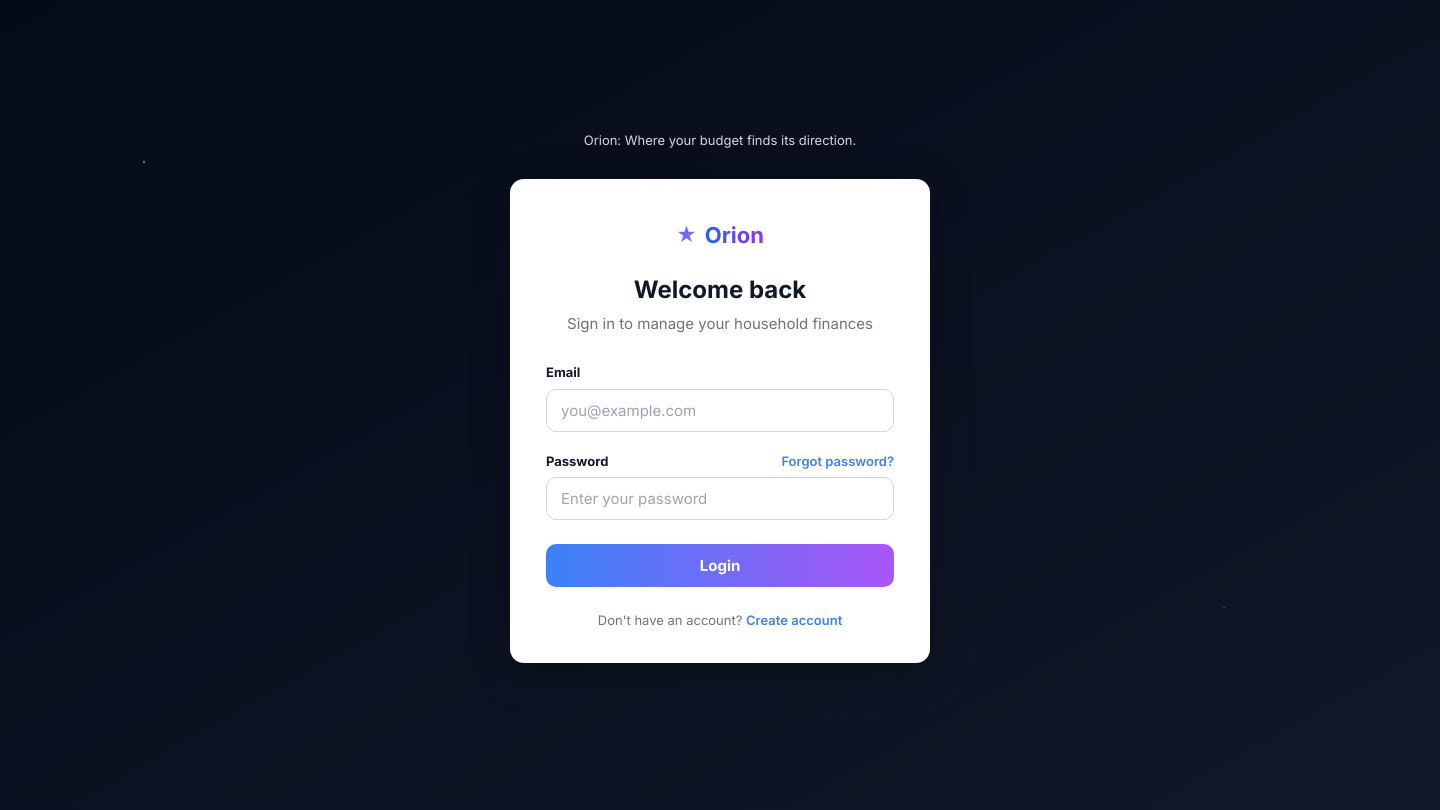
Test: Login page › shows an error snackbar when login returns a 401
Type "test@example.com" into the field labelled "Email". click: (720, 410)
box: [546,389,894,432]
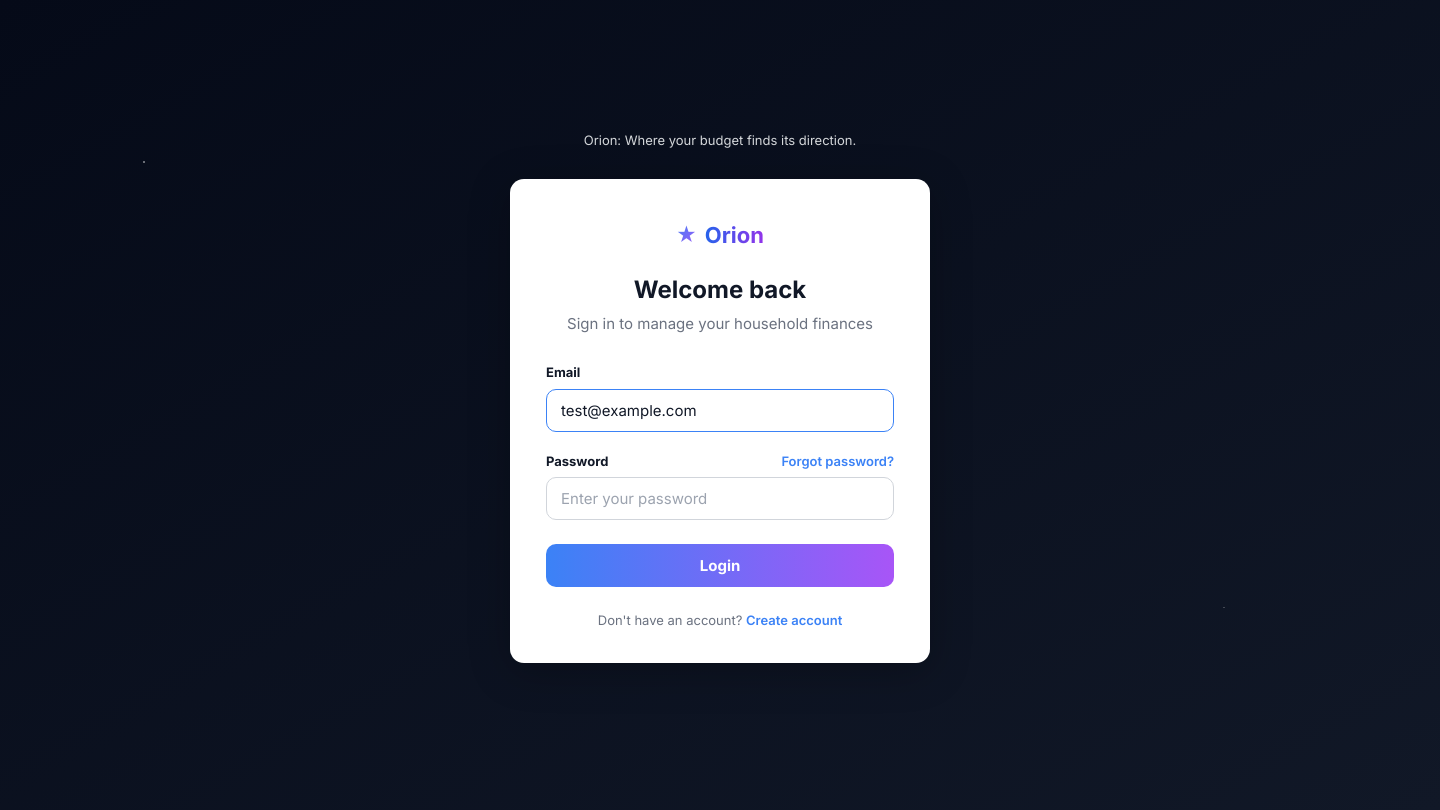
Type "wrongpassword" into the password field labelled "Password". click: (720, 499)
box: [546,477,894,520]
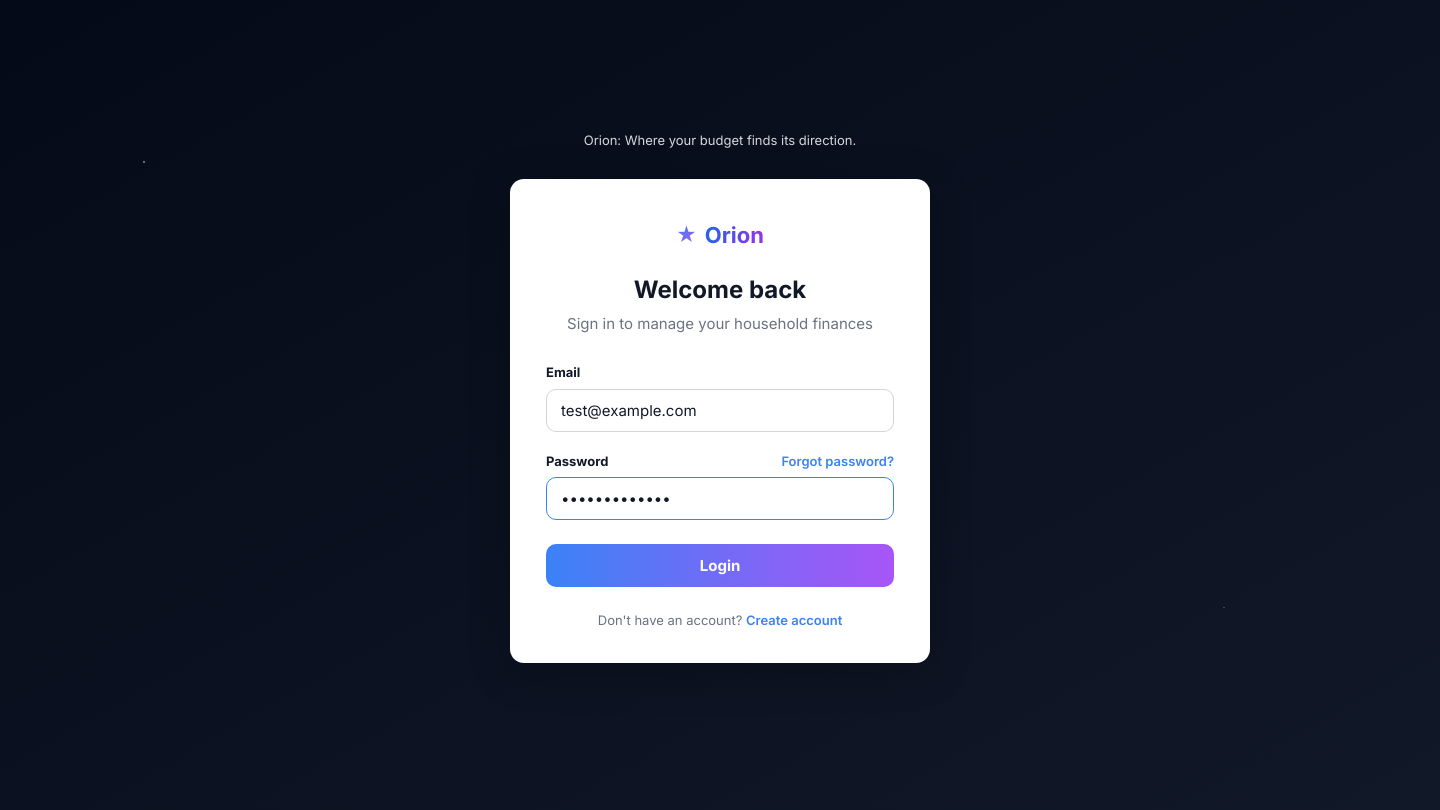
Click the button "Login". click: (720, 566)
box: [546,544,894,587]
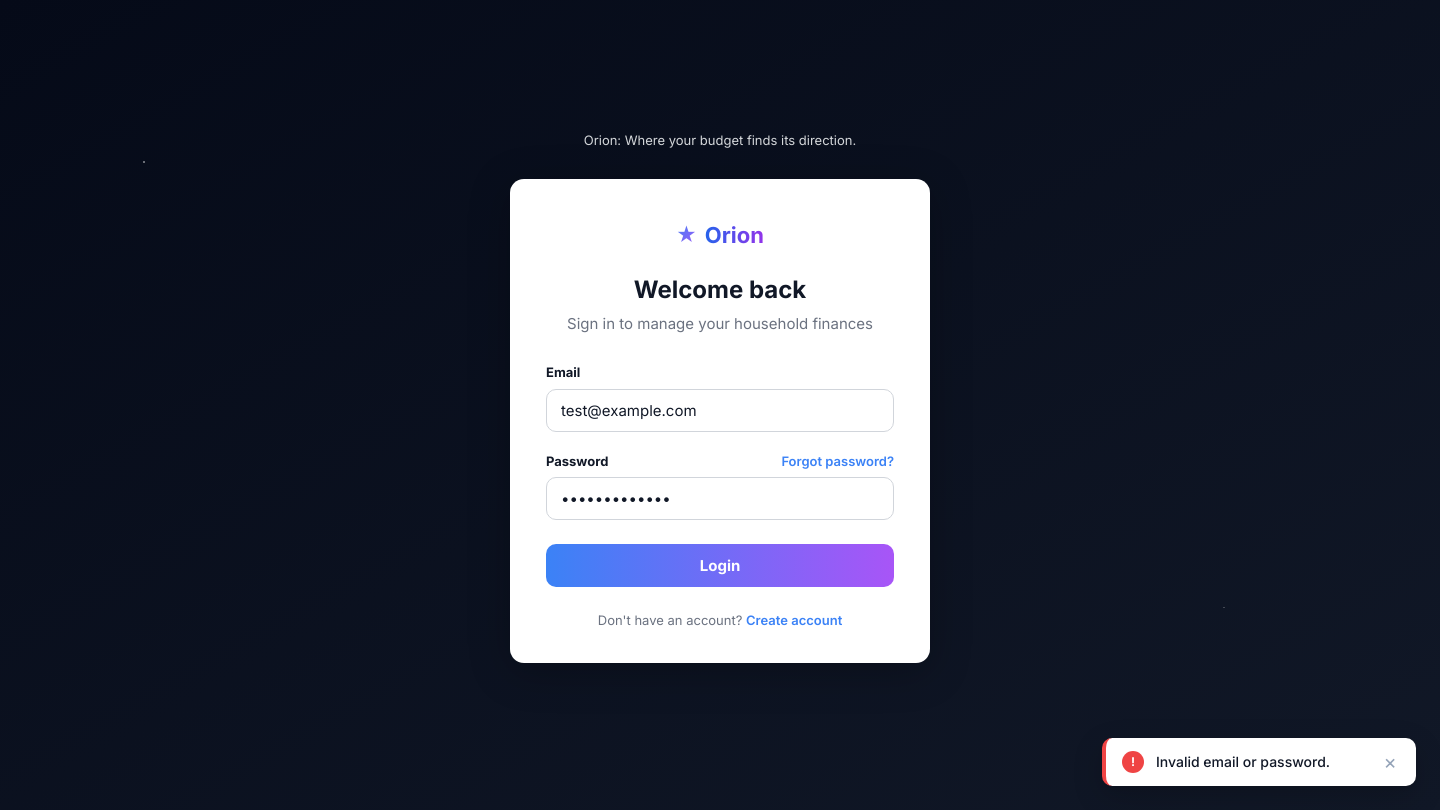
Result: the text "Invalid email or password." is shown at [1156,753,1330,770]
